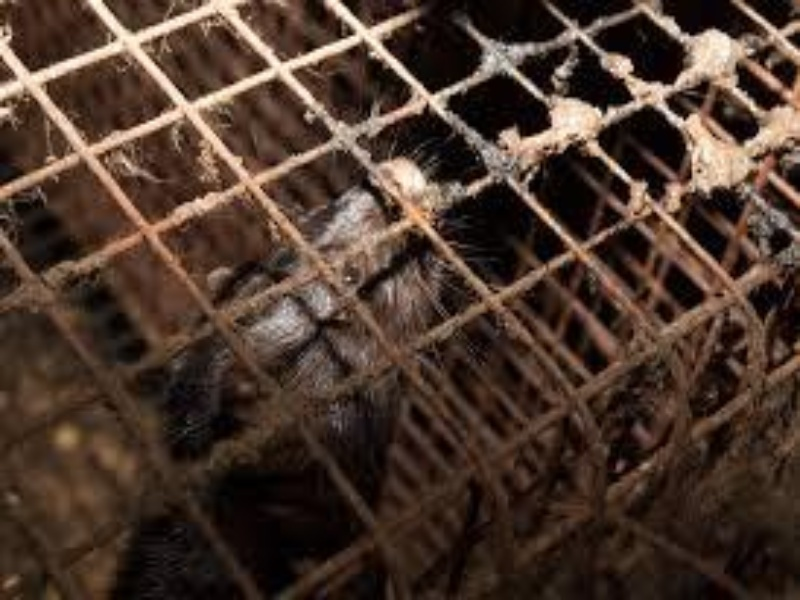minkish: (107, 153, 443, 593)
